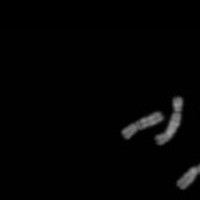chromosome: (155, 96, 182, 145), (122, 112, 164, 139), (177, 153, 200, 188)
